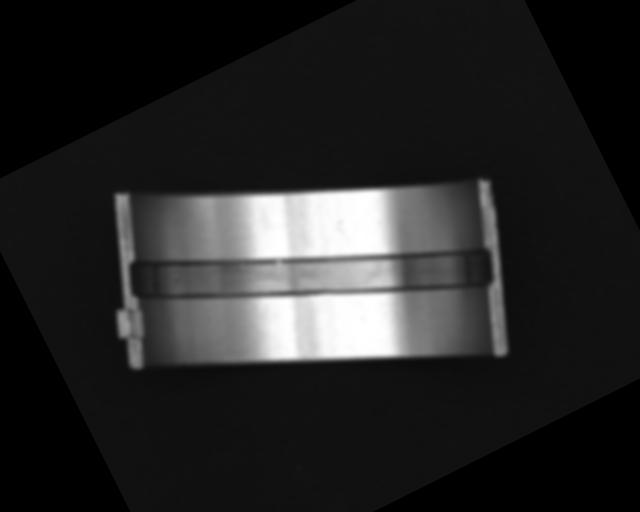gap: (120, 118, 504, 431)
